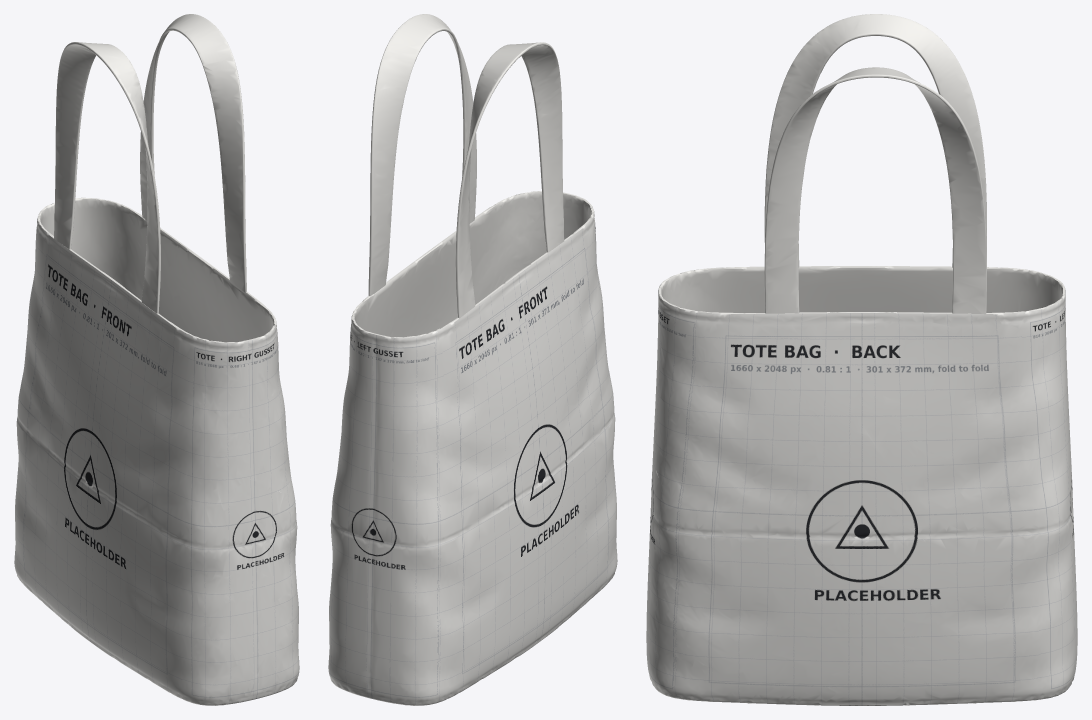
Rendered from tote-bag.glb.
3 views of the same model, side by side, from view 1: azimuth 30°, elevation 25°; view 2: azimuth 150°, elevation 25°; view 3: azimuth 270°, elevation 25° (orthographic). The views are drawn at different scales.
Visible parts, largest first — view 1: Canvas; view 2: Canvas; view 3: Canvas.
Boxes of the visible parts, <box> form: Canvas: <box>14,14,299,705</box>; Canvas: <box>328,14,617,705</box>; Canvas: <box>646,14,1077,705</box>.
Bounding box in the file's own units: 2.31 × 9.16 × 5.69.
Materials: 7 (4 with a texture image).
